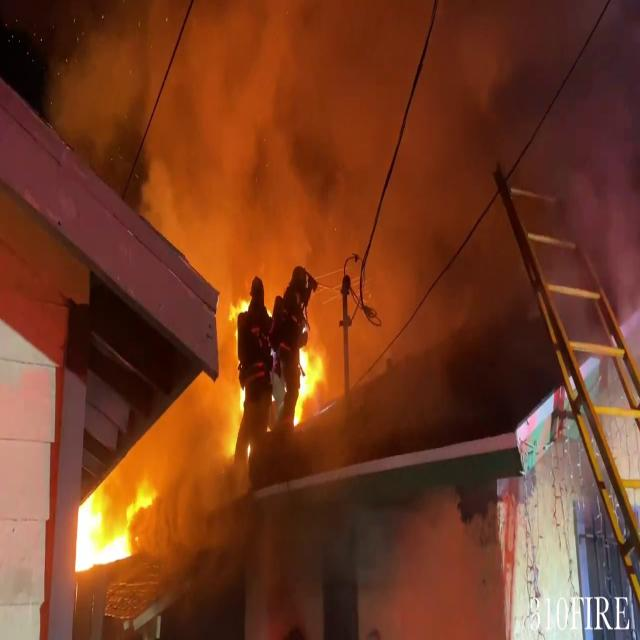Fire: (70, 467, 154, 576), (291, 333, 327, 427)
Smoke: (58, 7, 640, 377)
